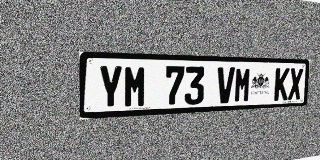3: (184, 66, 205, 105)
7: (164, 66, 185, 106)
K: (274, 68, 290, 101)
M: (123, 65, 147, 108), (234, 67, 252, 103)
V: (216, 67, 235, 104)
X: (288, 68, 303, 100)
Y: (98, 65, 123, 109)
